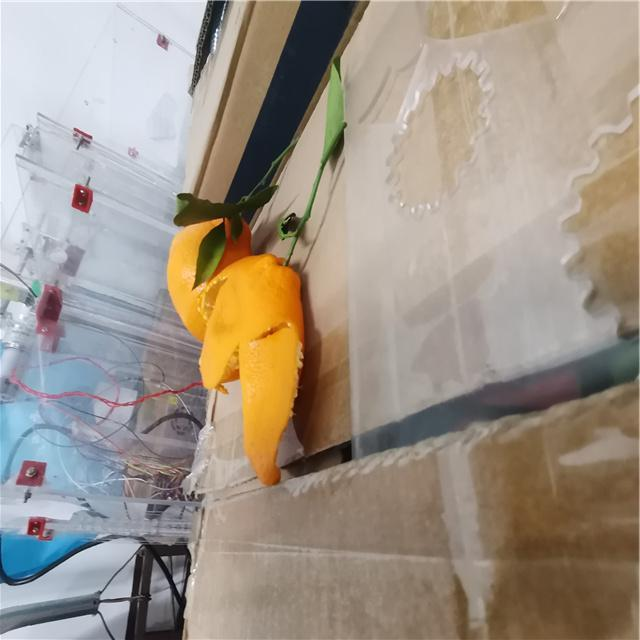orange peel: (191, 249, 304, 486), (167, 214, 249, 340)
